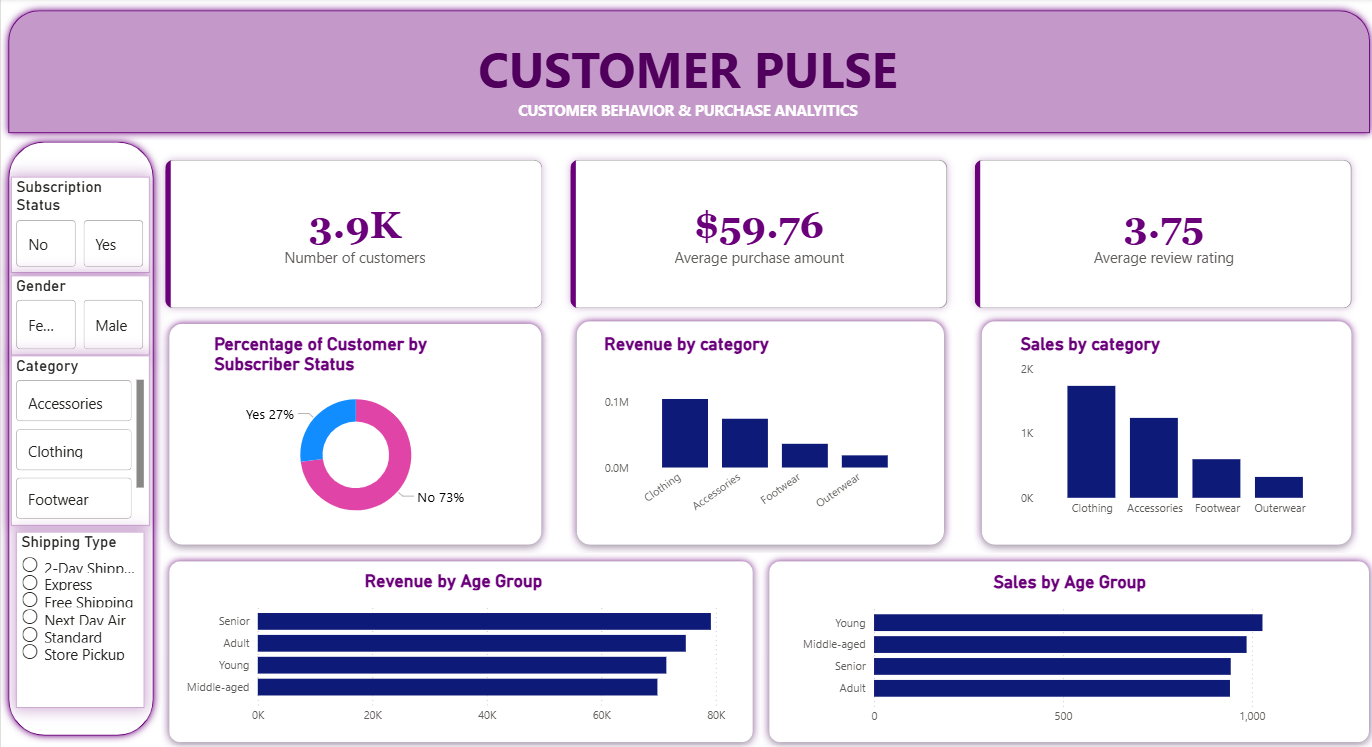

What the dashboard file says about the page in this screenshot:
{"tool":"powerbi","page":{"name":"Page 1","canvas":[1500,820],"ordinal":0},"visuals":[{"type":"cardVisual","fields":{"Data":["public customer.Number of customers","public customer.Average purchase amount","public customer.Average review rating"]},"box":[151.3,148.5,1349,218],"z":0},{"type":"shape","box":[0,5.5,1500.3,149.9],"z":1000},{"type":"textbox","box":[109,35.4,1279.5,113.1],"z":2000},{"type":"shape","box":[174.4,346.1,423.8,258.9],"z":3000},{"type":"donutChart","title":"Percentage of Customer by Subscriber Status","fields":{"Category":["public customer.subscription_status"],"Y":["CountNonNull(public customer.customer_id)"]},"box":[227.6,366.6,318.9,215.3],"z":4000},{"type":"shape","box":[618.6,343.4,418.3,261.6],"z":5000},{"type":"shape","box":[1060.1,343.4,421.1,261.6],"z":6000},{"type":"clusteredColumnChart","title":"Revenue by category","fields":{"Y":["Sum(public customer.purchased_amount)"],"Category":["public customer.category"]},"box":[652.7,366.6,347.5,208.5],"z":7000},{"type":"clusteredColumnChart","title":"Sales by category","fields":{"Category":["public customer.category"],"Y":["CountNonNull(public customer.customer_id)"]},"box":[1106.5,366.6,347.5,208.5],"z":8000},{"type":"shape","box":[0,148.5,174.4,663.6],"z":9000},{"type":"advancedSlicerVisual","fields":{"Values":["public customer.subscription_status"]},"box":[10.9,194.9,151.3,104.9],"z":10000},{"type":"advancedSlicerVisual","fields":{"Values":["public customer.gender"]},"box":[10.9,302.5,151.3,87.2],"z":11000},{"type":"advancedSlicerVisual","fields":{"Values":["public customer.category"]},"box":[10.9,389.7,151.3,185.3],"z":12000},{"type":"listSlicer","fields":{"Values":["public customer.shipping_type"]},"box":[16.4,581.9,140.4,192.1],"z":13000},{"type":"shape","box":[174.4,605,654.1,215.3],"z":14000},{"type":"clusteredBarChart","title":"Revenue by Age Group","fields":{"Y":["Sum(public customer.purchase_frequency_days)"],"Category":["public customer.age_group"]},"box":[192.1,624.1,602.3,175.8],"z":15000},{"type":"shape","box":[828.5,605,671.8,215.3],"z":16000},{"type":"clusteredBarChart","title":"Sales by Age Group","fields":{"Y":["CountNonNull(public customer.customer_id)"],"Category":["public customer.age_group"]},"box":[863.9,625.5,602.3,175.8],"z":17000}]}

Visuals, with their boxes in screenshot pixels (x1, y1, x2, y2), scaled from the page's 1500x820 canvas onto the 1372x747 screenshot:
cardVisual - public customer.Number of customers x public customer.Average purchase amount: rect(138, 135, 1371, 334)
shape: rect(0, 5, 1371, 142)
textbox: rect(100, 32, 1270, 135)
shape: rect(160, 315, 547, 551)
"Percentage of Customer by Subscriber Status" donutChart: rect(208, 334, 500, 530)
shape: rect(566, 313, 948, 551)
shape: rect(970, 313, 1355, 551)
"Revenue by category" clusteredColumnChart: rect(597, 334, 915, 524)
"Sales by category" clusteredColumnChart: rect(1012, 334, 1330, 524)
shape: rect(0, 135, 160, 740)
advancedSlicerVisual - public customer.subscription_status: rect(10, 178, 148, 273)
advancedSlicerVisual - public customer.gender: rect(10, 276, 148, 355)
advancedSlicerVisual - public customer.category: rect(10, 355, 148, 524)
listSlicer - public customer.shipping_type: rect(15, 530, 143, 705)
shape: rect(160, 551, 758, 746)
"Revenue by Age Group" clusteredBarChart: rect(176, 569, 727, 729)
shape: rect(758, 551, 1371, 746)
"Sales by Age Group" clusteredBarChart: rect(790, 570, 1341, 730)
